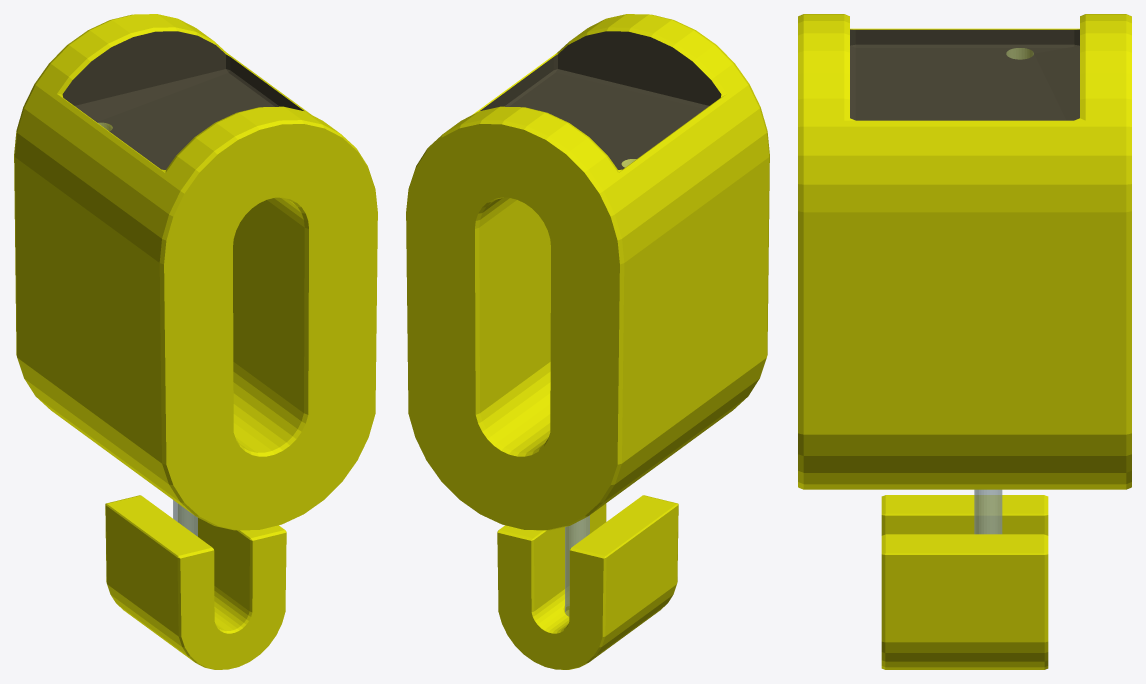
File: obita_base_Vb_0.6_phat.glb
The picture shows the model from 3 angles, left to right: view 1: azimuth 30°, elevation 25°; view 2: azimuth 150°, elevation 25°; view 3: azimuth 270°, elevation 25°; orthographic projection. The views are drawn at different scales.
Visible parts, largest first — view 1: O, u, club; view 2: O, u, club, lift; view 3: O, u, club, lift.
Part boxes in pixels (x1,y1,x2,y2): O: (14,14,377,530); u: (105,495,286,669); club: (62,31,303,169); O: (406,14,769,530); u: (497,495,678,669); club: (480,31,721,169); lift: (565,515,589,616); O: (798,14,1131,489); u: (881,495,1048,669); club: (850,29,1079,120); lift: (974,489,1002,534).
Size of what is drawn, in the model's own units: 33.63 by 84.45 by 40.15.
